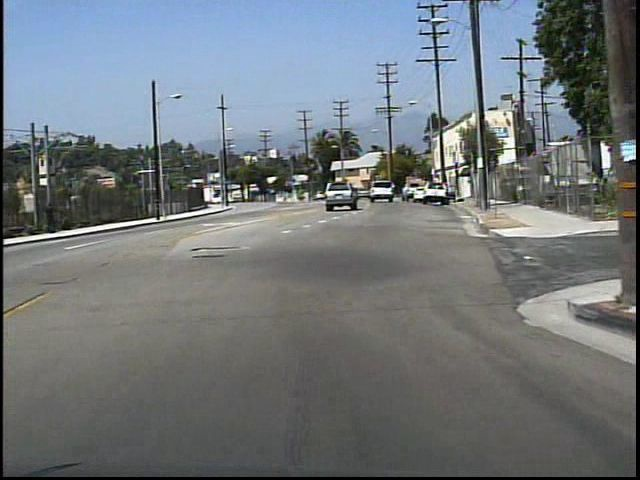person: (45, 199, 62, 236)
